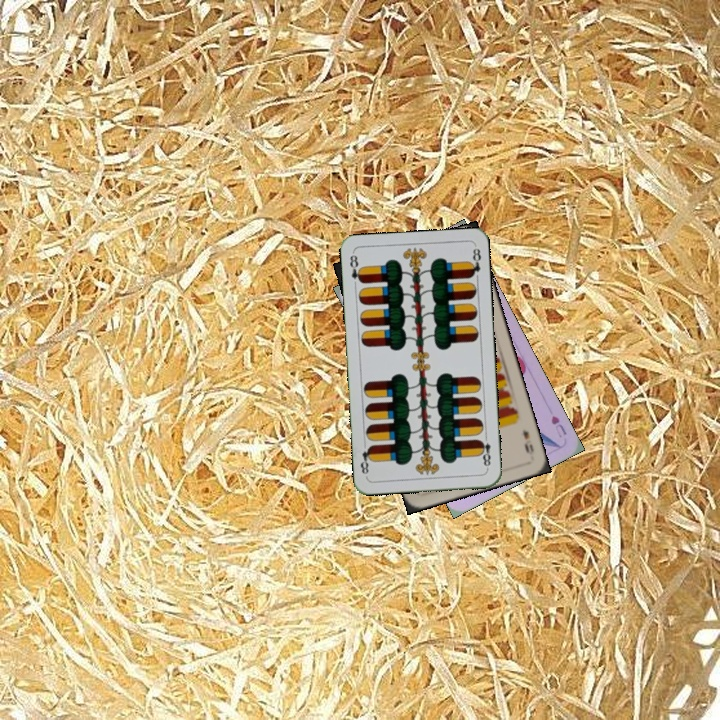E8: (475, 431, 493, 472), (346, 250, 365, 285)
E9: (518, 426, 536, 455)
HU: (547, 412, 569, 440)
